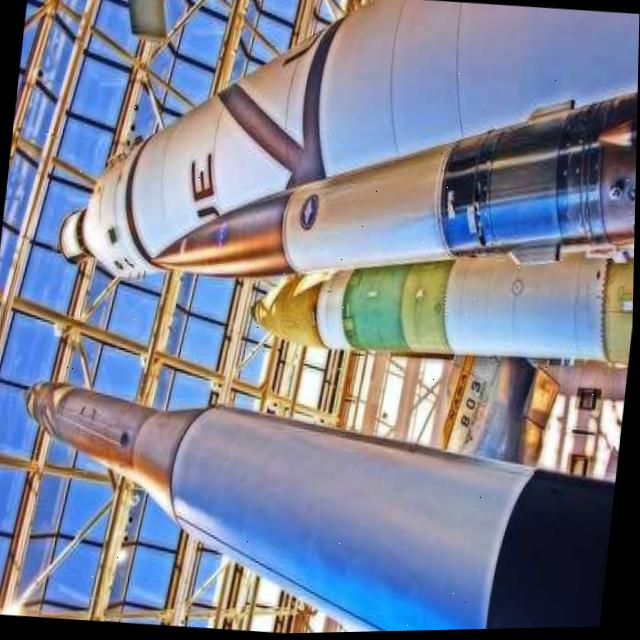missile: (51, 0, 640, 326), (3, 360, 626, 640), (157, 56, 639, 301), (247, 183, 637, 386)
